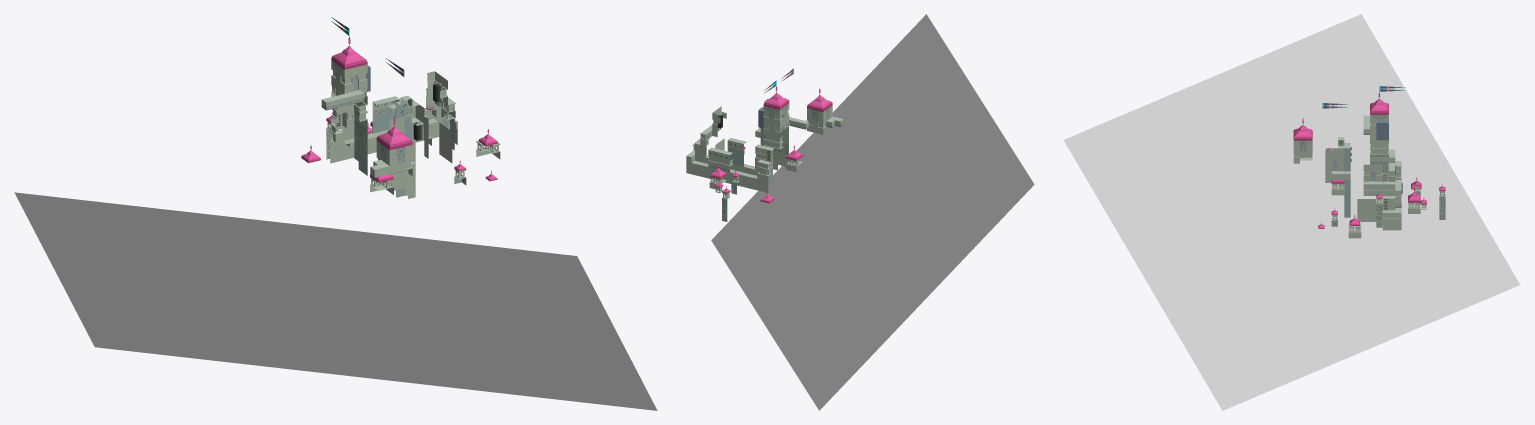
Rendered from Chunk.fbx.
The picture shows the model from 3 angles, left to right: view 1: azimuth 30°, elevation 25°; view 2: azimuth 150°, elevation 25°; view 3: azimuth 270°, elevation 25°; orthographic projection. The views are drawn at different scales.
Parts seen in each view (by area): view 1: GrassPlain, _Combined_VisChild_Dragnew_Mat (×6), _Combined_Vis_PCPORTChild_Dragnew_Mat; view 2: GrassPlain, _Combined_VisChild_Dragnew_Mat (×7), _Combined_Vis_PCPORTChild_Dragnew_Mat; view 3: GrassPlain, _Combined_VisChild_Dragnew_Mat (×5), _Combined_Vis_PCPORTChild_Dragnew_Mat, _Combined_VisChild_Dragnew_FogLevel.
Boxes of the visible parts, x1,y1,x2,y2 form: GrassPlain: (14, 192, 657, 410); _Combined_VisChild_Dragnew_Mat (×6): (321, 36, 457, 198); _Combined_Vis_PCPORTChild_Dragnew_Mat: (301, 112, 500, 185); GrassPlain: (711, 14, 1034, 410); _Combined_VisChild_Dragnew_Mat (×7): (686, 86, 843, 194); _Combined_Vis_PCPORTChild_Dragnew_Mat: (692, 139, 774, 221); GrassPlain: (1063, 14, 1520, 410); _Combined_VisChild_Dragnew_Mat (×5): (1293, 92, 1426, 230); _Combined_Vis_PCPORTChild_Dragnew_Mat: (1318, 177, 1445, 238); _Combined_VisChild_Dragnew_FogLevel: (1344, 143, 1350, 217).
Bounding box in the file's own units: 71.86 × 44.13 × 71.86.
9 materials, 7 textured.
